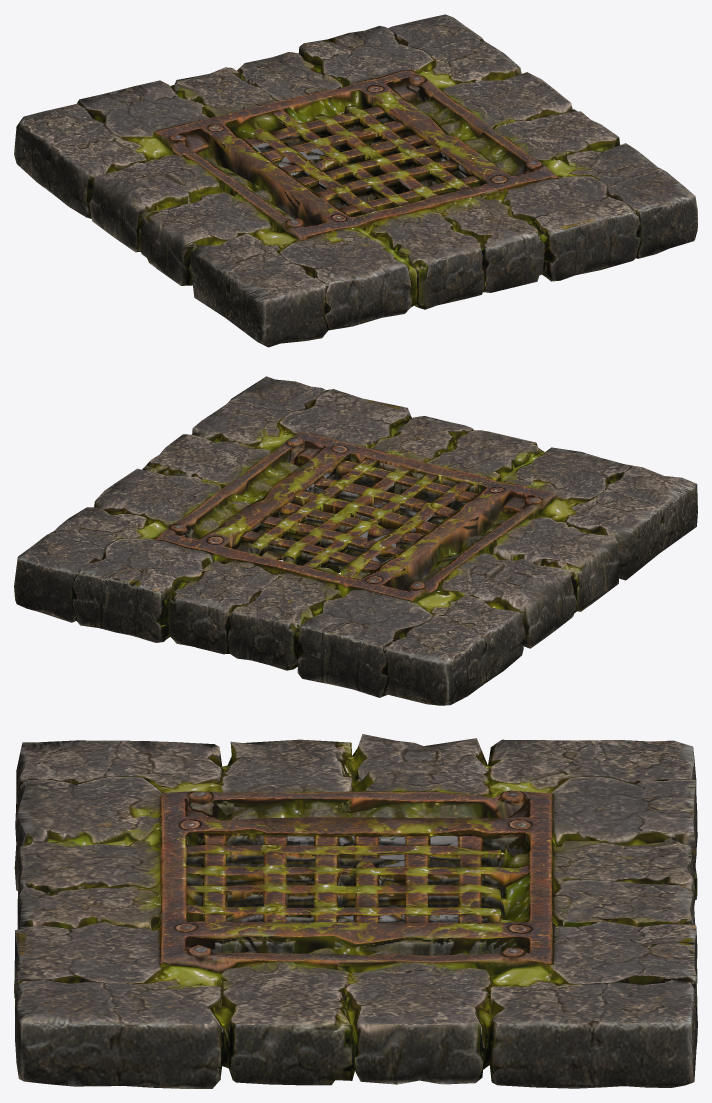
File: TrapPoison.fbx
The picture shows the model from 3 angles, top to bottom: view 1: azimuth 30°, elevation 25°; view 2: azimuth 150°, elevation 25°; view 3: azimuth 270°, elevation 25°; orthographic projection. The views are drawn at different scales.
Parts seen in each view (by area): view 1: texture_mapping; view 2: texture_mapping; view 3: texture_mapping.
Part boxes in pixels (x1=…): texture_mapping: x1=14, y1=14, x2=697, y2=347; texture_mapping: x1=14, y1=376, x2=697, y2=705; texture_mapping: x1=14, y1=734, x2=697, y2=1088.
Bounding box in the file's own units: 0.9985 × 0.9951 × 0.1333.
1 material, 1 textured.
